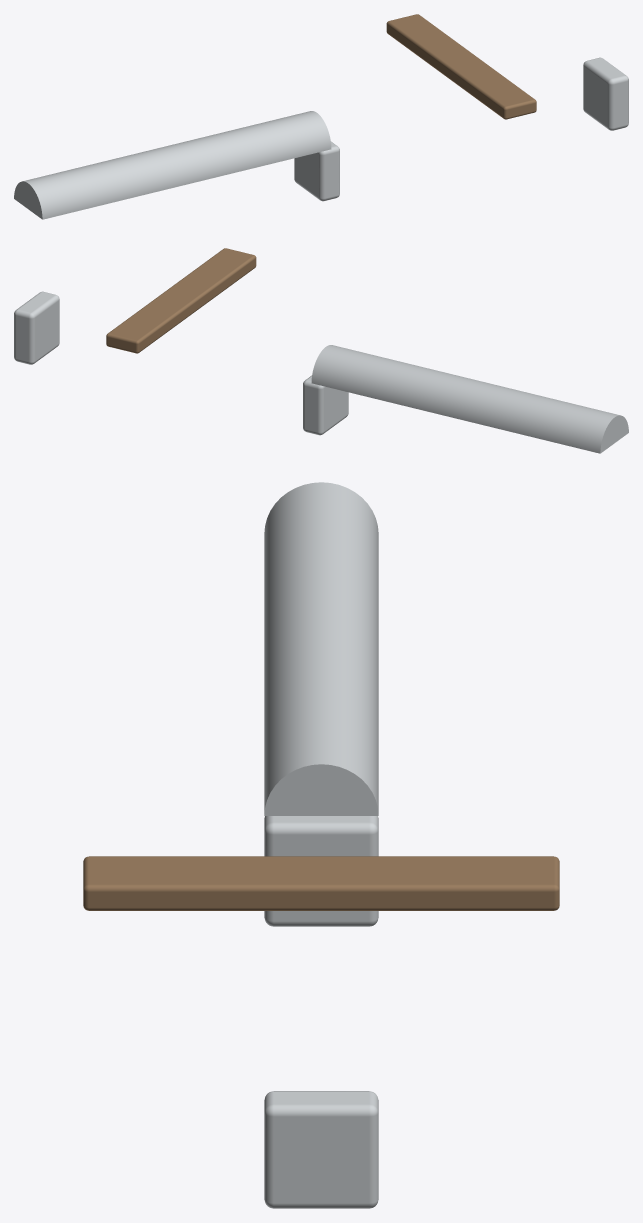
File: geotechnical-soil-testing-laboratory-linear-shrinkage--74ccad21__39062.glb
The picture shows the model from 3 angles, top to bottom: view 1: azimuth 30°, elevation 25°; view 2: azimuth 150°, elevation 25°; view 3: azimuth 270°, elevation 25°; orthographic projection. The views are drawn at different scales.
Parts seen in each view (by area): view 1: linear-shrinkage-trough; view 2: linear-shrinkage-trough; view 3: linear-shrinkage-trough.
Part boxes in pixels (x1,y1,x2,y2): linear-shrinkage-trough: (14,14,628,219); linear-shrinkage-trough: (14,248,628,453); linear-shrinkage-trough: (83,482,559,1208).
Size of the model in its own units: 1.42 by 0.22 by 0.5.
